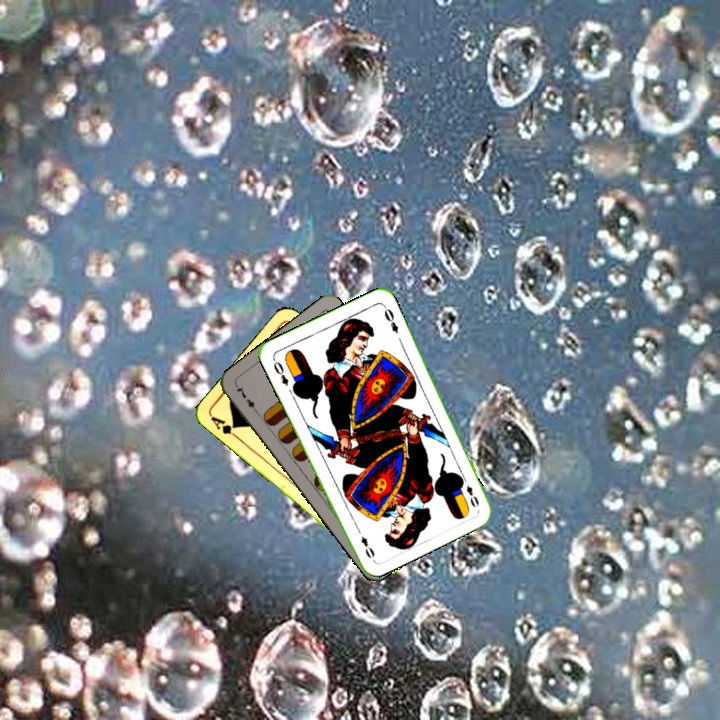E7: (232, 381, 261, 416)
EO: (457, 473, 482, 510), (269, 355, 291, 388)
GA: (207, 412, 242, 442)
